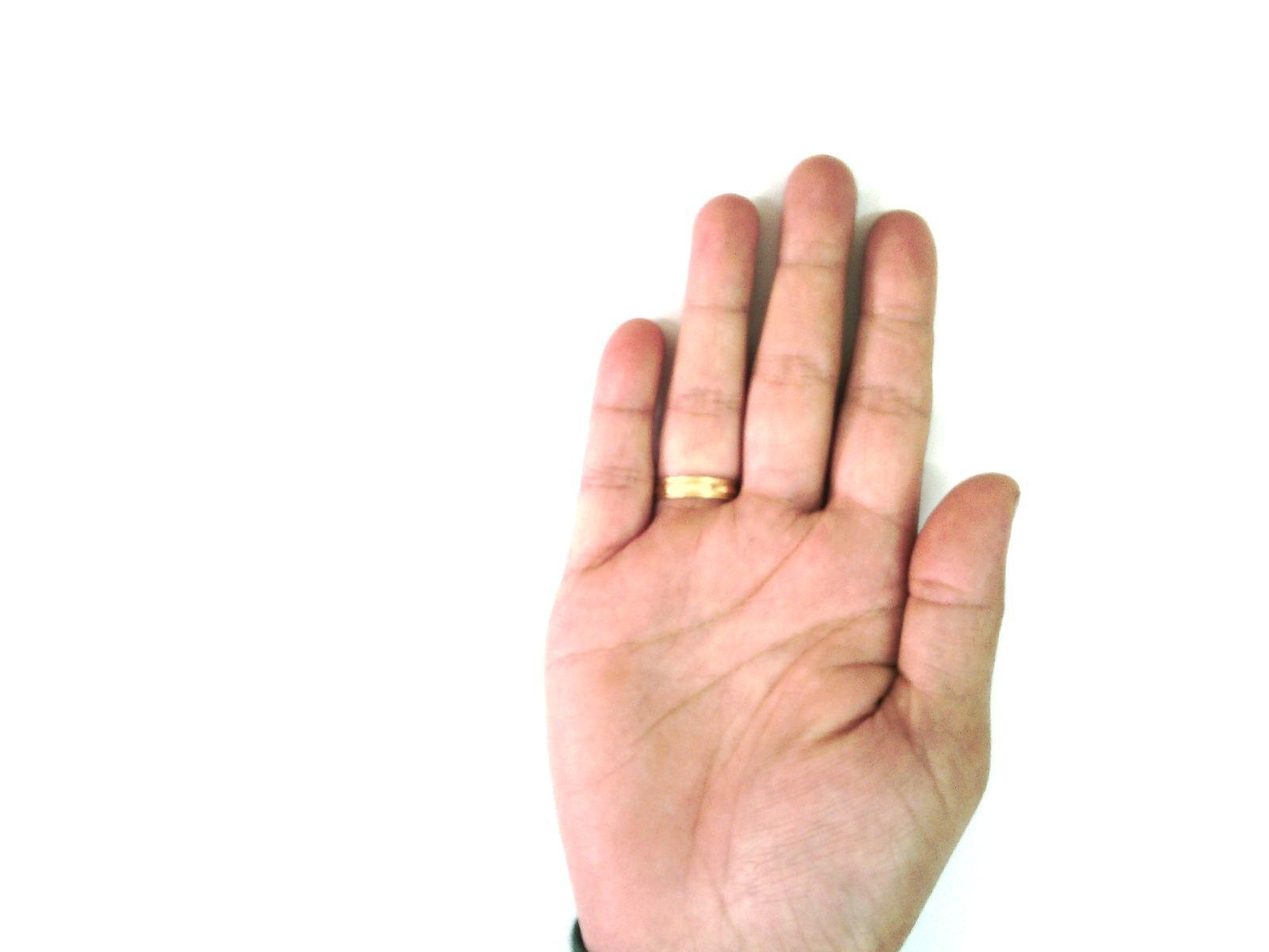open_palm: (540, 154, 1023, 951)
